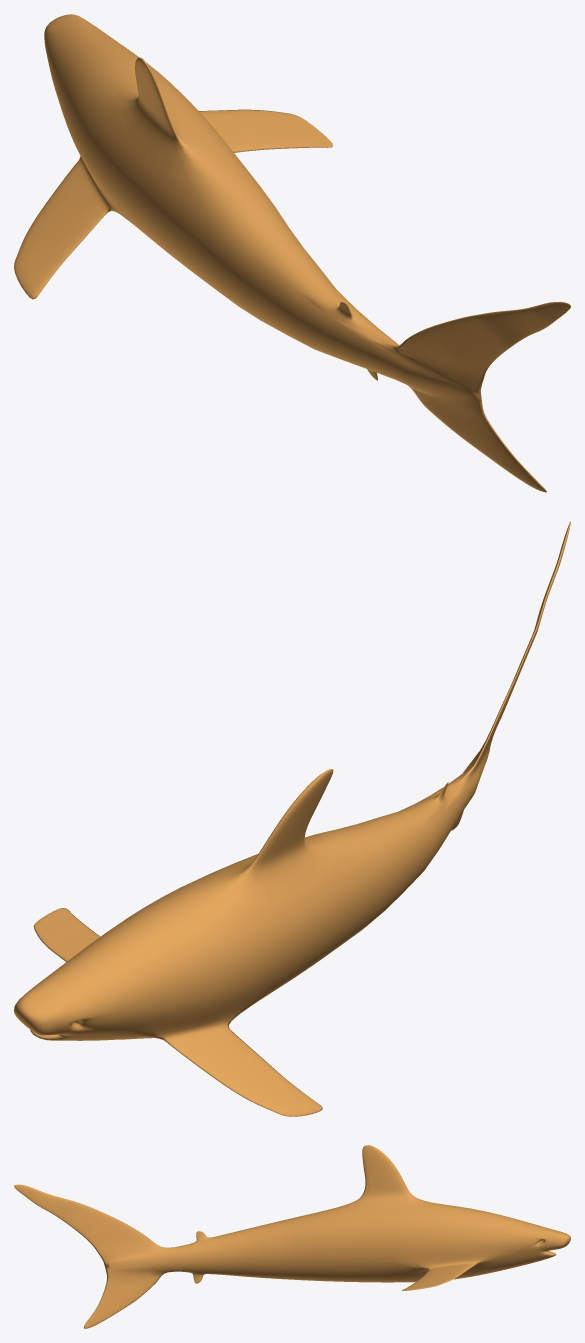
The model's file is dolphin1_6.dae.
3 renders of one model, top to bottom at view 1: azimuth 30°, elevation 25°; view 2: azimuth 150°, elevation 25°; view 3: azimuth 270°, elevation 25°, orthographic. The views are drawn at different scales.
Parts seen in each view (by area): view 1: dolphin1_019; view 2: dolphin1_019; view 3: dolphin1_019.
Boxes of the visible parts, x1,y1,x2,y2 form: dolphin1_019: [14, 14, 570, 492]; dolphin1_019: [14, 521, 570, 1116]; dolphin1_019: [14, 1145, 570, 1328].
Size of the model in its own units: 0.045 by 0.146 by 0.0426.
